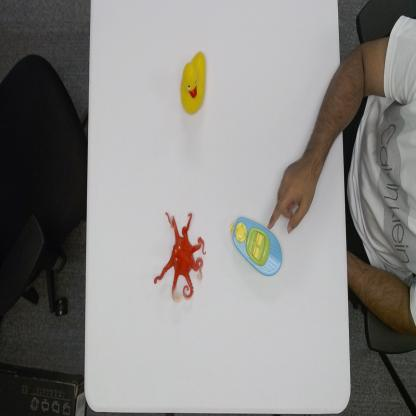Arm: (304, 45, 360, 165)
Boat: (229, 215, 283, 277)
Duck: (179, 50, 207, 116)
Hand: (266, 156, 317, 236)
Octopus: (153, 210, 206, 304)
